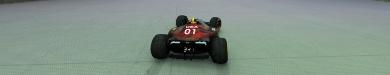Car: (149, 14, 228, 64)
grass: (0, 0, 389, 74)
